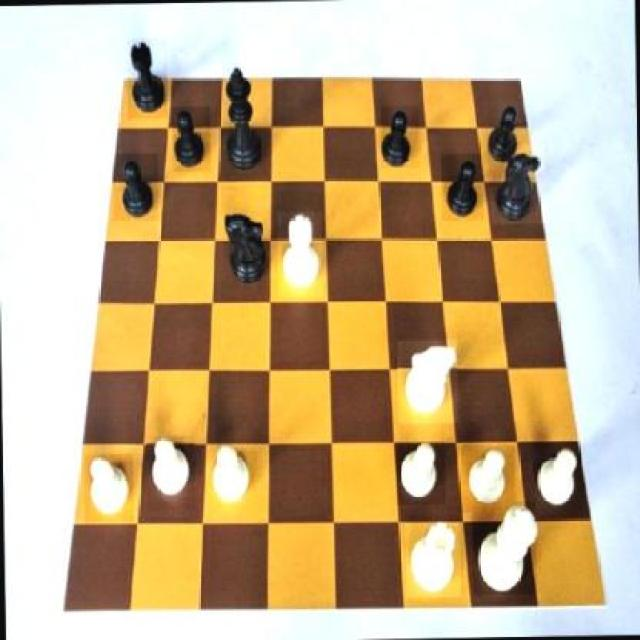black-bishop: (220, 65, 267, 177)
black-king: (491, 144, 546, 224), (223, 208, 266, 288)
black-knight: (112, 153, 158, 220), (483, 100, 526, 170), (440, 154, 484, 220), (172, 106, 212, 172), (378, 104, 419, 168)
black-queen: (126, 39, 167, 120)
white-bishop: (472, 502, 537, 596)
white-king: (397, 340, 458, 425)
white-knight: (532, 440, 586, 513), (460, 444, 515, 514), (147, 437, 196, 512), (206, 440, 260, 505), (84, 454, 134, 523), (394, 440, 444, 505)
white-queen: (405, 522, 460, 598), (279, 211, 323, 297)
